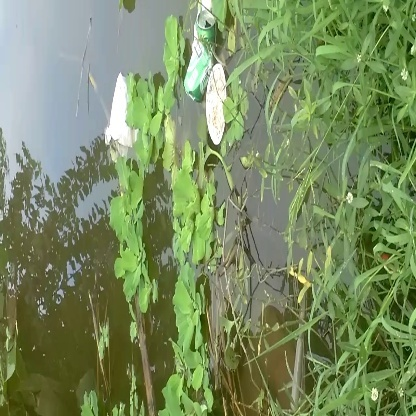bottle: (182, 8, 227, 105)
